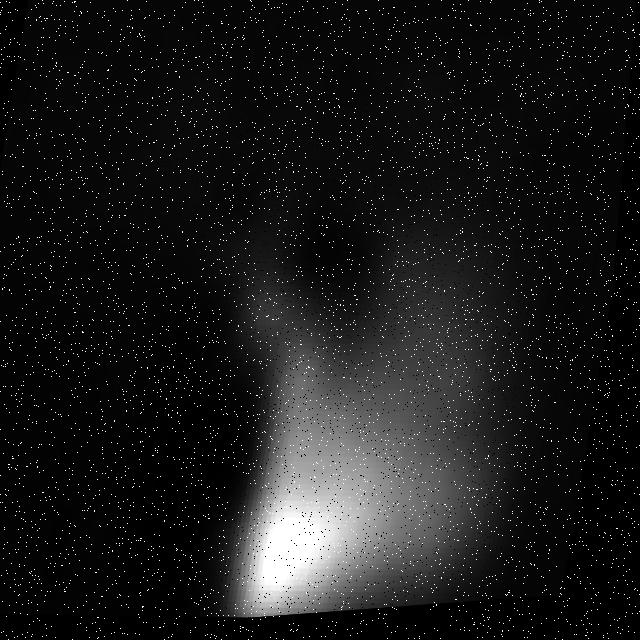person: (189, 191, 582, 628)
